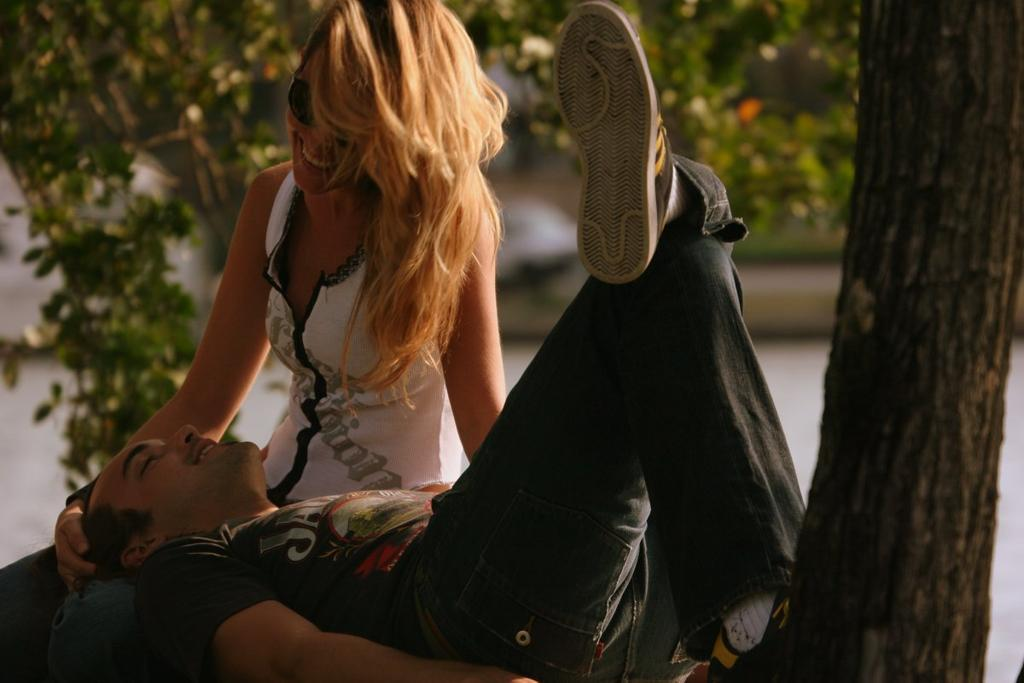face: (286, 36, 378, 192), (100, 424, 262, 506)
